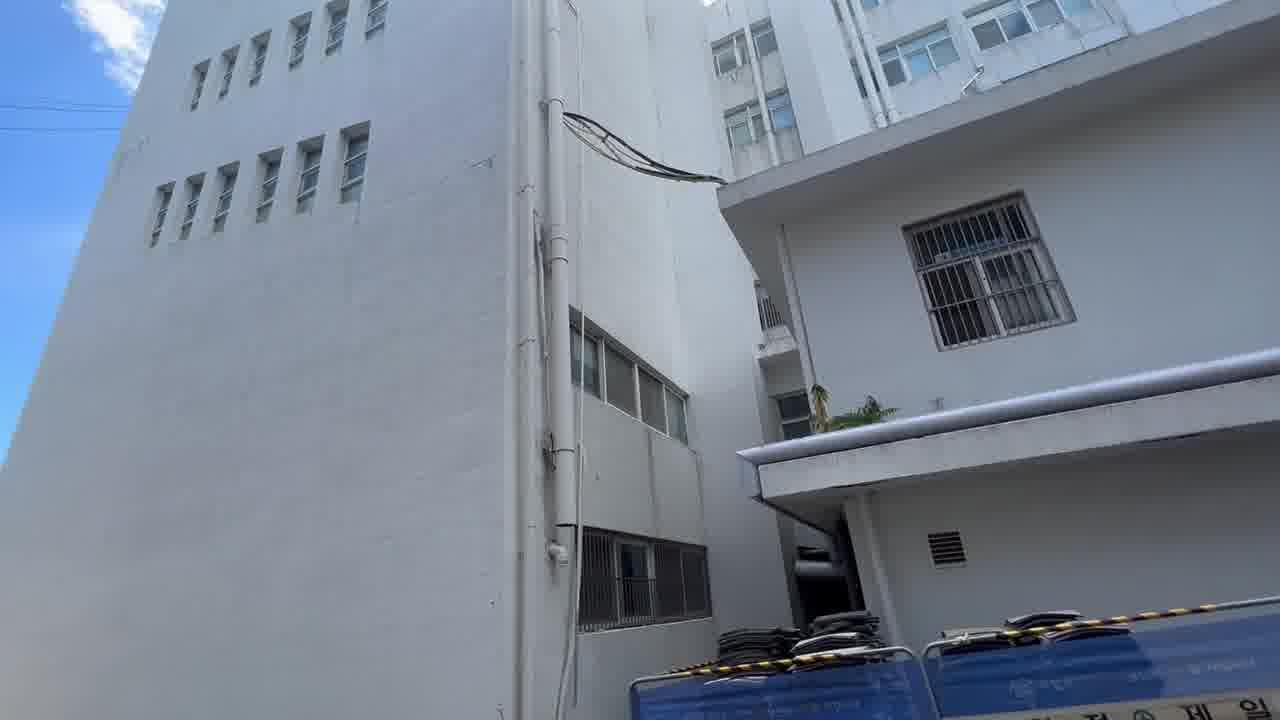building: (130, 29, 1280, 720)
